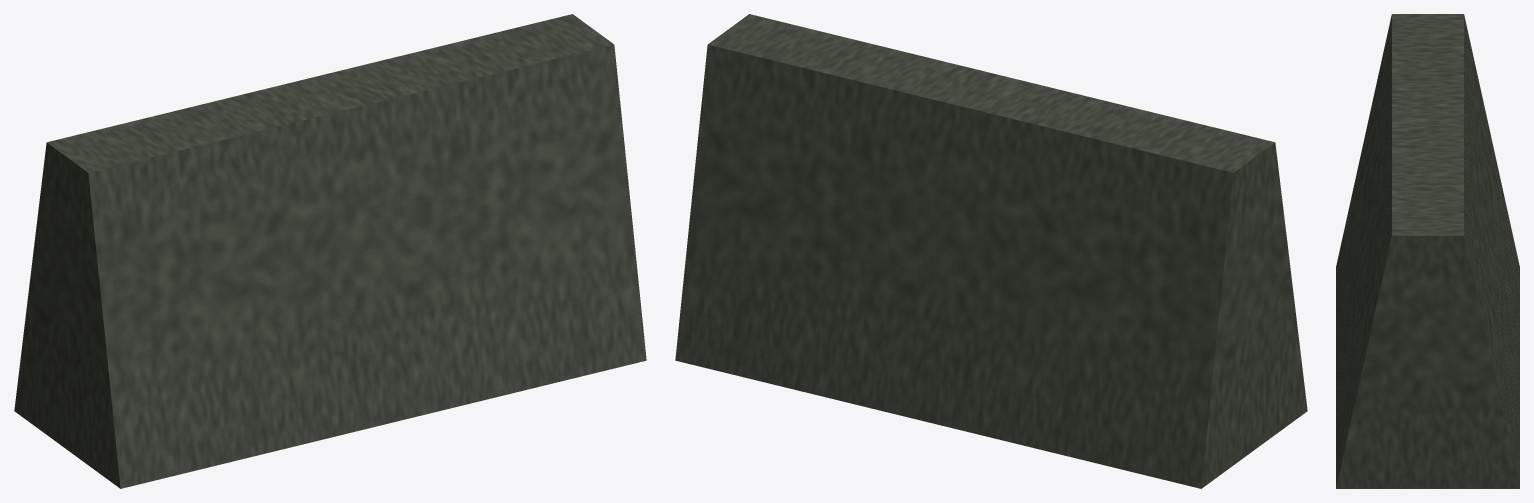
Rendered from Concrete_Barrier.glb.
3 views of the same model, side by side, from view 1: azimuth 30°, elevation 25°; view 2: azimuth 150°, elevation 25°; view 3: azimuth 270°, elevation 25° (orthographic). The views are drawn at different scales.
Parts seen in each view (by area): view 1: Concrete_Barrier; view 2: Concrete_Barrier; view 3: Concrete_Barrier.
Part boxes in pixels (x1,y1,x2,y2): Concrete_Barrier: (14,14,646,488); Concrete_Barrier: (675,14,1307,488); Concrete_Barrier: (1336,14,1519,488).
Size of the model in its own units: 1.6 by 0.85 by 0.56.
Materials: 1 (1 with a texture image).
